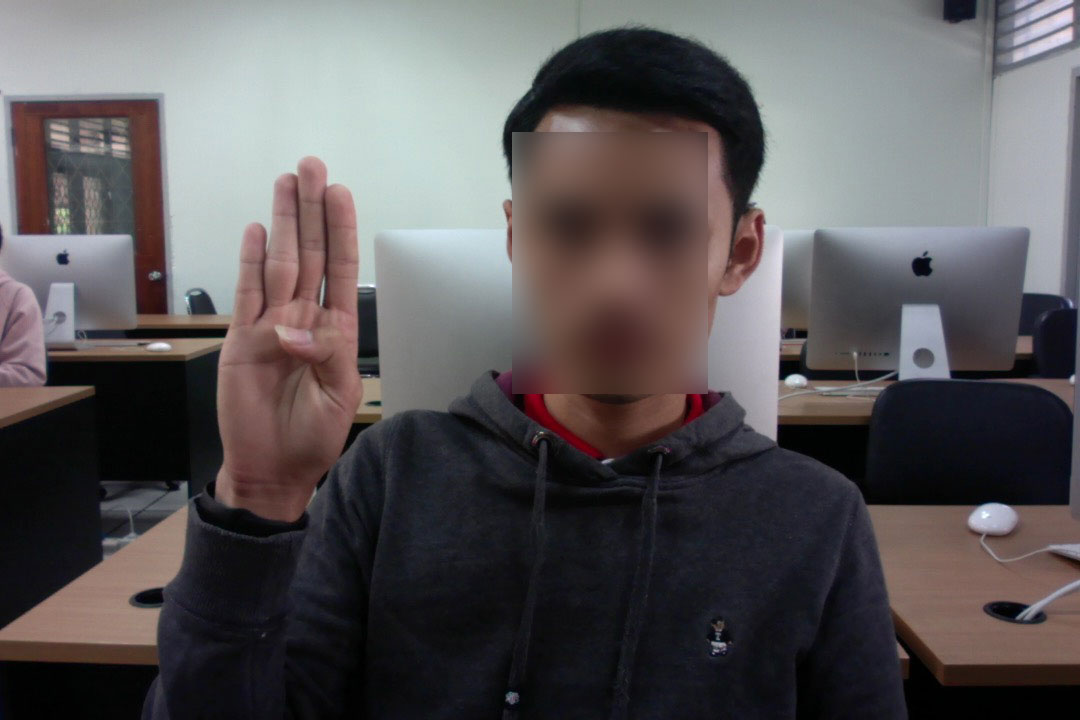bor: (180, 150, 379, 544)
